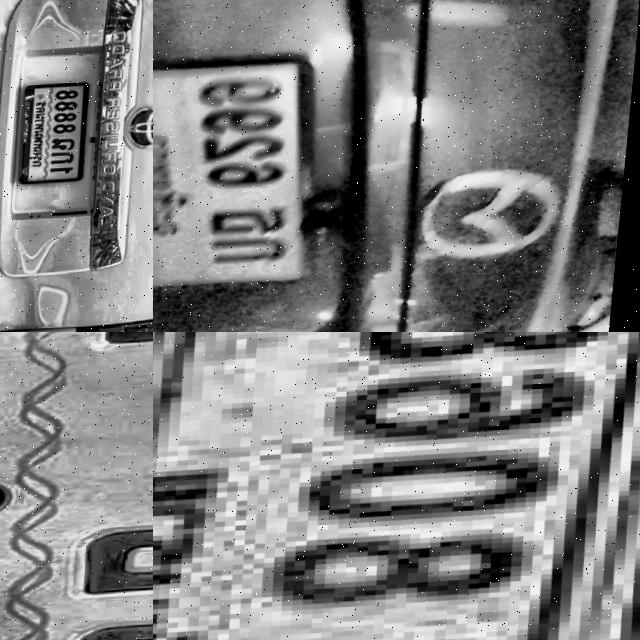license-plate: (153, 332, 640, 640), (0, 332, 153, 640), (153, 65, 311, 288), (19, 82, 99, 189)
